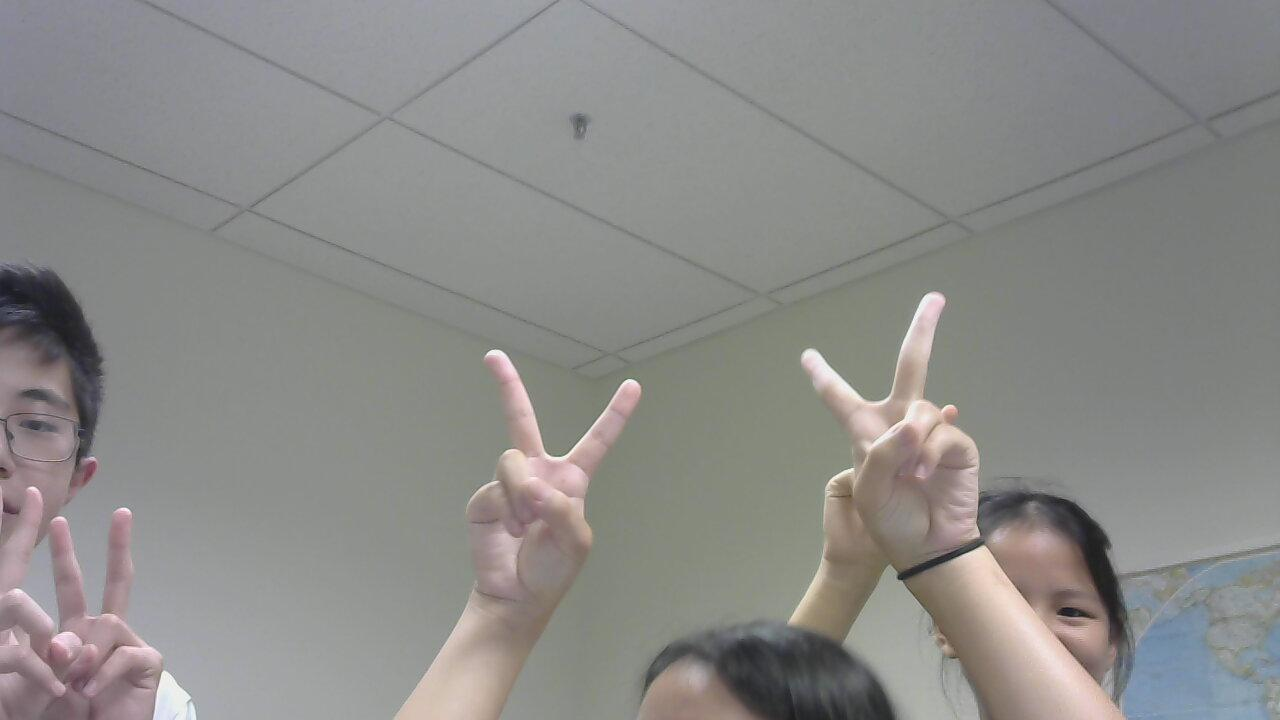peace: (453, 347, 652, 628), (798, 317, 1020, 568), (46, 507, 177, 720)
